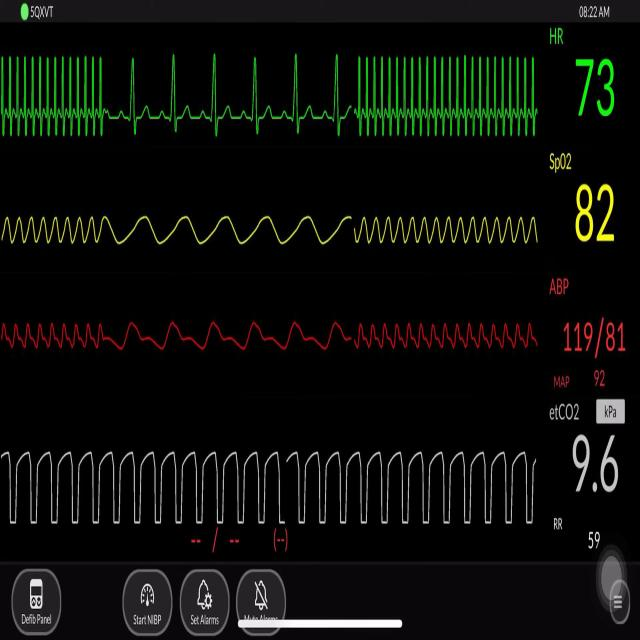danger: (352, 45, 542, 144), (3, 44, 108, 142)
